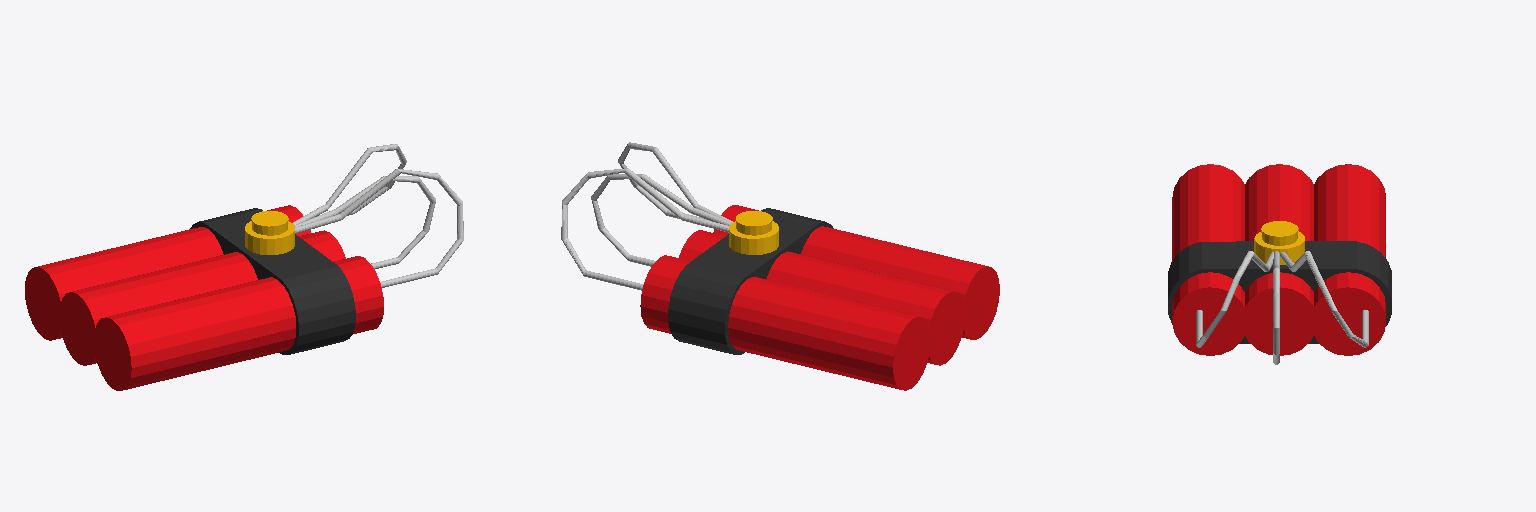
The picture shows the model from 3 angles: view 1: azimuth 30°, elevation 25°; view 2: azimuth 150°, elevation 25°; view 3: azimuth 270°, elevation 25°; orthographic projection.
Parts seen in each view (by area): view 1: cylinder3, cylinder1, cylinder4, cylinder2, cylinder5, cylinder8, cylinder6, cylinder7; view 2: cylinder2, cylinder1, cylinder4, cylinder3, cylinder7, cylinder8, cylinder6, cylinder5; view 3: cylinder3, cylinder2, cylinder1, cylinder4, cylinder8, cylinder7, cylinder5, cylinder6.
Part boxes in pixels (left/top/right/bottom): cylinder3: left=95, top=256, right=383, bottom=390; cylinder1: left=59, top=230, right=345, bottom=365; cylinder4: left=190, top=208, right=355, bottom=354; cylinder2: left=25, top=205, right=310, bottom=340; cylinder5: left=295, top=169, right=463, bottom=287; cylinder8: left=245, top=211, right=294, bottom=254; cylinder6: left=294, top=176, right=435, bottom=269; cylinder7: left=293, top=144, right=406, bottom=224; cylinder2: left=640, top=255, right=930, bottom=390; cylinder1: left=679, top=230, right=964, bottom=365; cylinder4: left=668, top=208, right=833, bottom=354; cylinder3: left=713, top=205, right=999, bottom=339; cylinder7: left=561, top=168, right=728, bottom=290; cylinder8: left=729, top=211, right=778, bottom=254; cylinder6: left=591, top=174, right=731, bottom=266; cylinder5: left=618, top=142, right=732, bottom=222; cylinder3: left=1172, top=164, right=1246, bottom=355; cylinder2: left=1311, top=164, right=1385, bottom=355; cylinder1: left=1242, top=164, right=1316, bottom=355; cylinder4: left=1168, top=241, right=1391, bottom=343; cylinder8: left=1254, top=221, right=1304, bottom=264; cylinder7: left=1280, top=251, right=1368, bottom=347; cylinder5: left=1196, top=251, right=1273, bottom=347; cylinder6: left=1273, top=251, right=1279, bottom=364.
Size of the model in its own units: 56.66 by 20.35 by 30.98.
Materials: 4 (3 with a texture image).